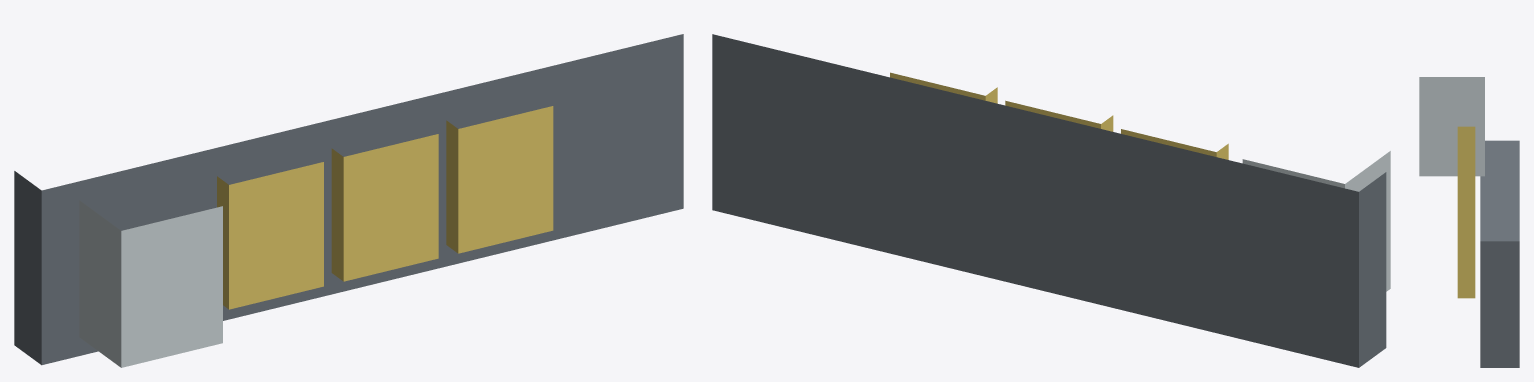
The model's file is bulk-carrier.glb.
The picture shows the model from 3 angles, left to right: view 1: azimuth 30°, elevation 25°; view 2: azimuth 150°, elevation 25°; view 3: azimuth 270°, elevation 25°; orthographic projection. The views are drawn at different scales.
Bounding box in the file's own units: 9.8 × 2.55 × 1.83.
